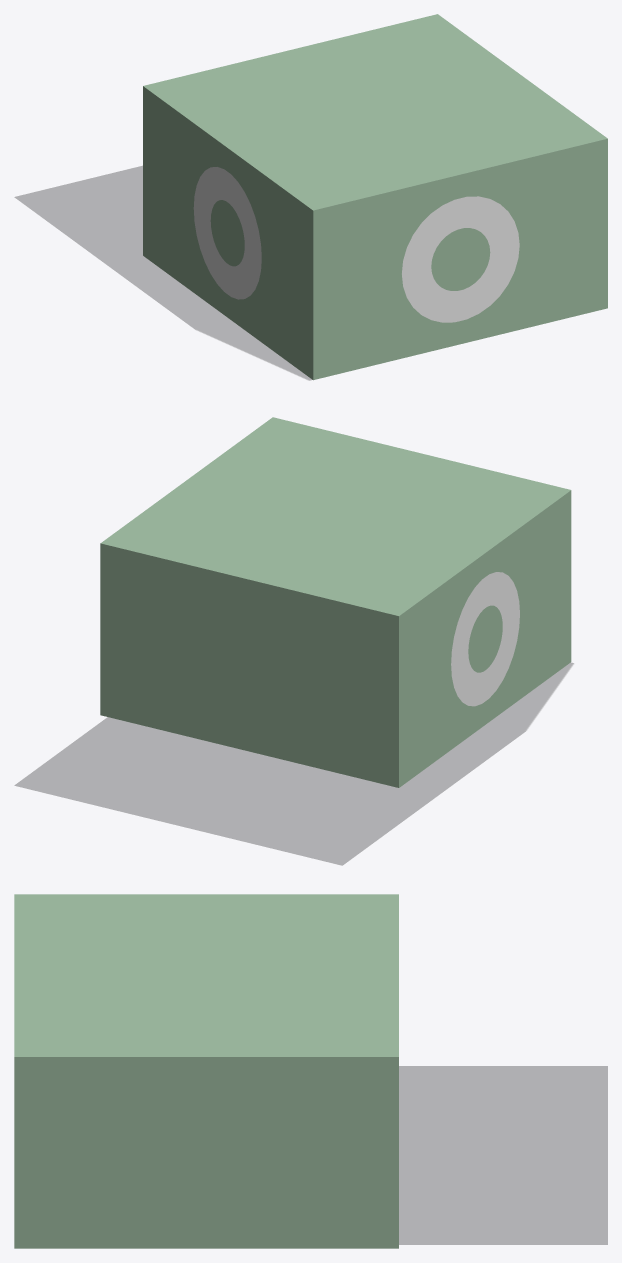
File: block_04.glb
3 renders of one model, top to bottom at view 1: azimuth 30°, elevation 25°; view 2: azimuth 150°, elevation 25°; view 3: azimuth 270°, elevation 25°, orthographic. The views are drawn at different scales.
Parts seen in each view (by area): view 1: hitObj, block; view 2: hitObj, block; view 3: hitObj, block.
Boxes of the visible parts, box(x1,y1,x2,y2) form: hitObj: box(143, 14, 607, 380); block: box(15, 166, 311, 380); hitObj: box(100, 417, 571, 787); block: box(15, 663, 573, 865); hitObj: box(14, 894, 398, 1248); block: box(399, 1066, 607, 1244).
Size of the model in its own units: 11.24 by 5.5 by 15.44.
3 materials, 1 textured.
